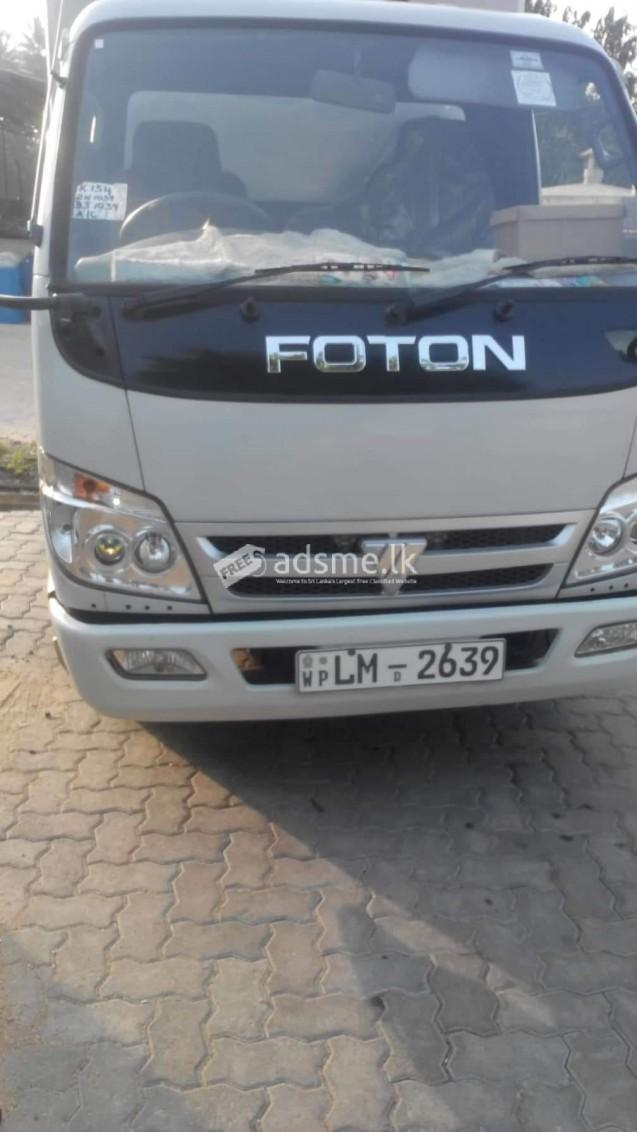truck: (27, 1, 637, 724)
